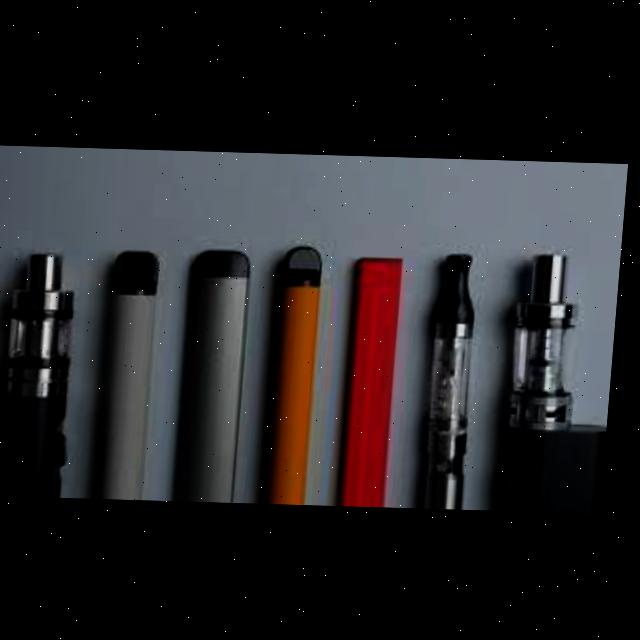vape: (501, 248, 624, 511), (0, 251, 85, 498), (180, 249, 255, 500), (425, 253, 488, 507), (344, 256, 408, 504), (103, 252, 166, 498), (268, 244, 327, 503)
